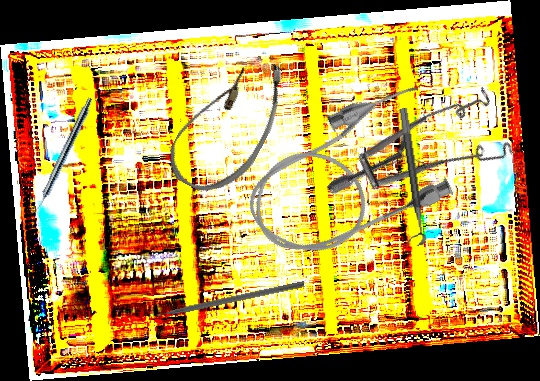Cannula: (227, 74, 467, 278), (159, 39, 299, 208)
Chopper: (143, 272, 305, 321)
Fixation Ring: (386, 107, 428, 248)
Handpiece: (30, 95, 95, 218)
Speculum: (325, 53, 533, 266)
